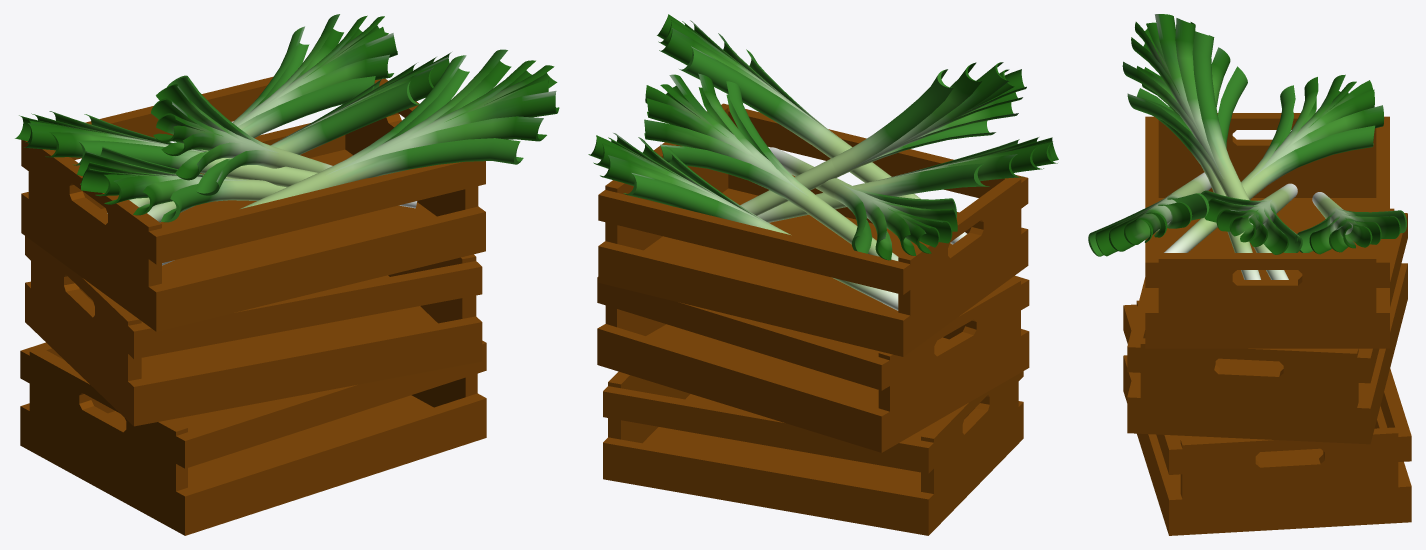
File: leek_provider.fbx
3 renders of one model, left to right at view 1: azimuth 30°, elevation 25°; view 2: azimuth 150°, elevation 25°; view 3: azimuth 270°, elevation 25°, orthographic. The views are drawn at different scales.
Visible parts, largest first — view 1: crate_01, crate_03, crate_02, leek05, leek02, leek04, leek01, leek03, leek06; view 2: crate_01, crate_02, crate_03, leek06, leek04, leek05, leek02, leek03, leek01; view 3: crate_01, crate_02, crate_03, leek04, leek03, leek05, leek06, leek02, leek01.
Part boxes in pixels (bbox=[...]): crate_01: bbox=[21, 76, 485, 331]; crate_03: bbox=[20, 340, 486, 535]; crate_02: bbox=[25, 236, 482, 426]; leek05: bbox=[162, 49, 559, 265]; leek02: bbox=[107, 14, 397, 213]; leek04: bbox=[151, 75, 332, 195]; leek01: bbox=[77, 146, 286, 222]; leek03: bbox=[15, 111, 417, 208]; leek06: bbox=[147, 52, 451, 222]; crate_01: bbox=[598, 103, 1028, 356]; crate_02: bbox=[597, 275, 1029, 452]; crate_03: bbox=[603, 371, 1023, 535]; leek06: bbox=[644, 73, 898, 260]; leek04: bbox=[740, 62, 1026, 215]; leek05: bbox=[657, 14, 966, 244]; leek02: bbox=[588, 133, 898, 310]; leek03: bbox=[769, 147, 957, 260]; leek01: bbox=[757, 137, 1058, 222]; crate_01: bbox=[1145, 113, 1389, 348]; crate_02: bbox=[1127, 208, 1407, 444]; crate_03: bbox=[1123, 300, 1411, 535]; leek04: bbox=[1122, 14, 1288, 279]; leek03: bbox=[1164, 74, 1384, 252]; leek05: bbox=[1088, 172, 1211, 256]; leek06: bbox=[1201, 183, 1302, 254]; leek02: bbox=[1295, 192, 1406, 254]; leek01: bbox=[1136, 47, 1260, 279].
Size of what is drawn, in the model's own units: 88.4 by 131 by 116.
